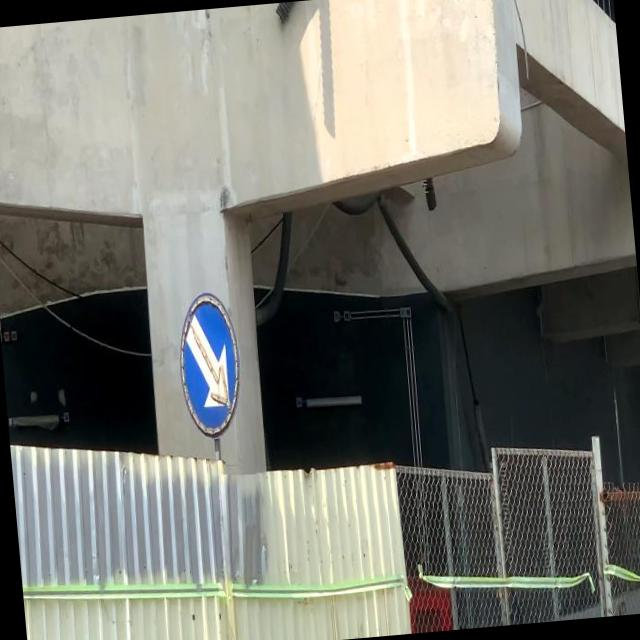R-302a: (176, 292, 244, 434)
